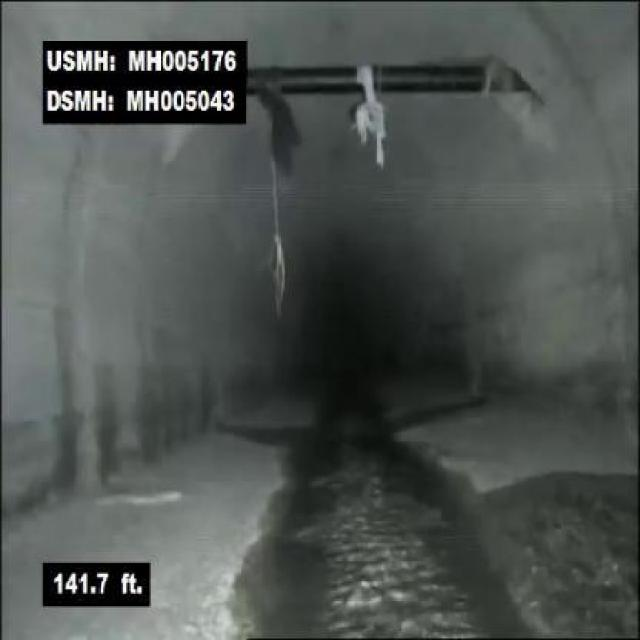Utility intrusion: (251, 44, 549, 110)
